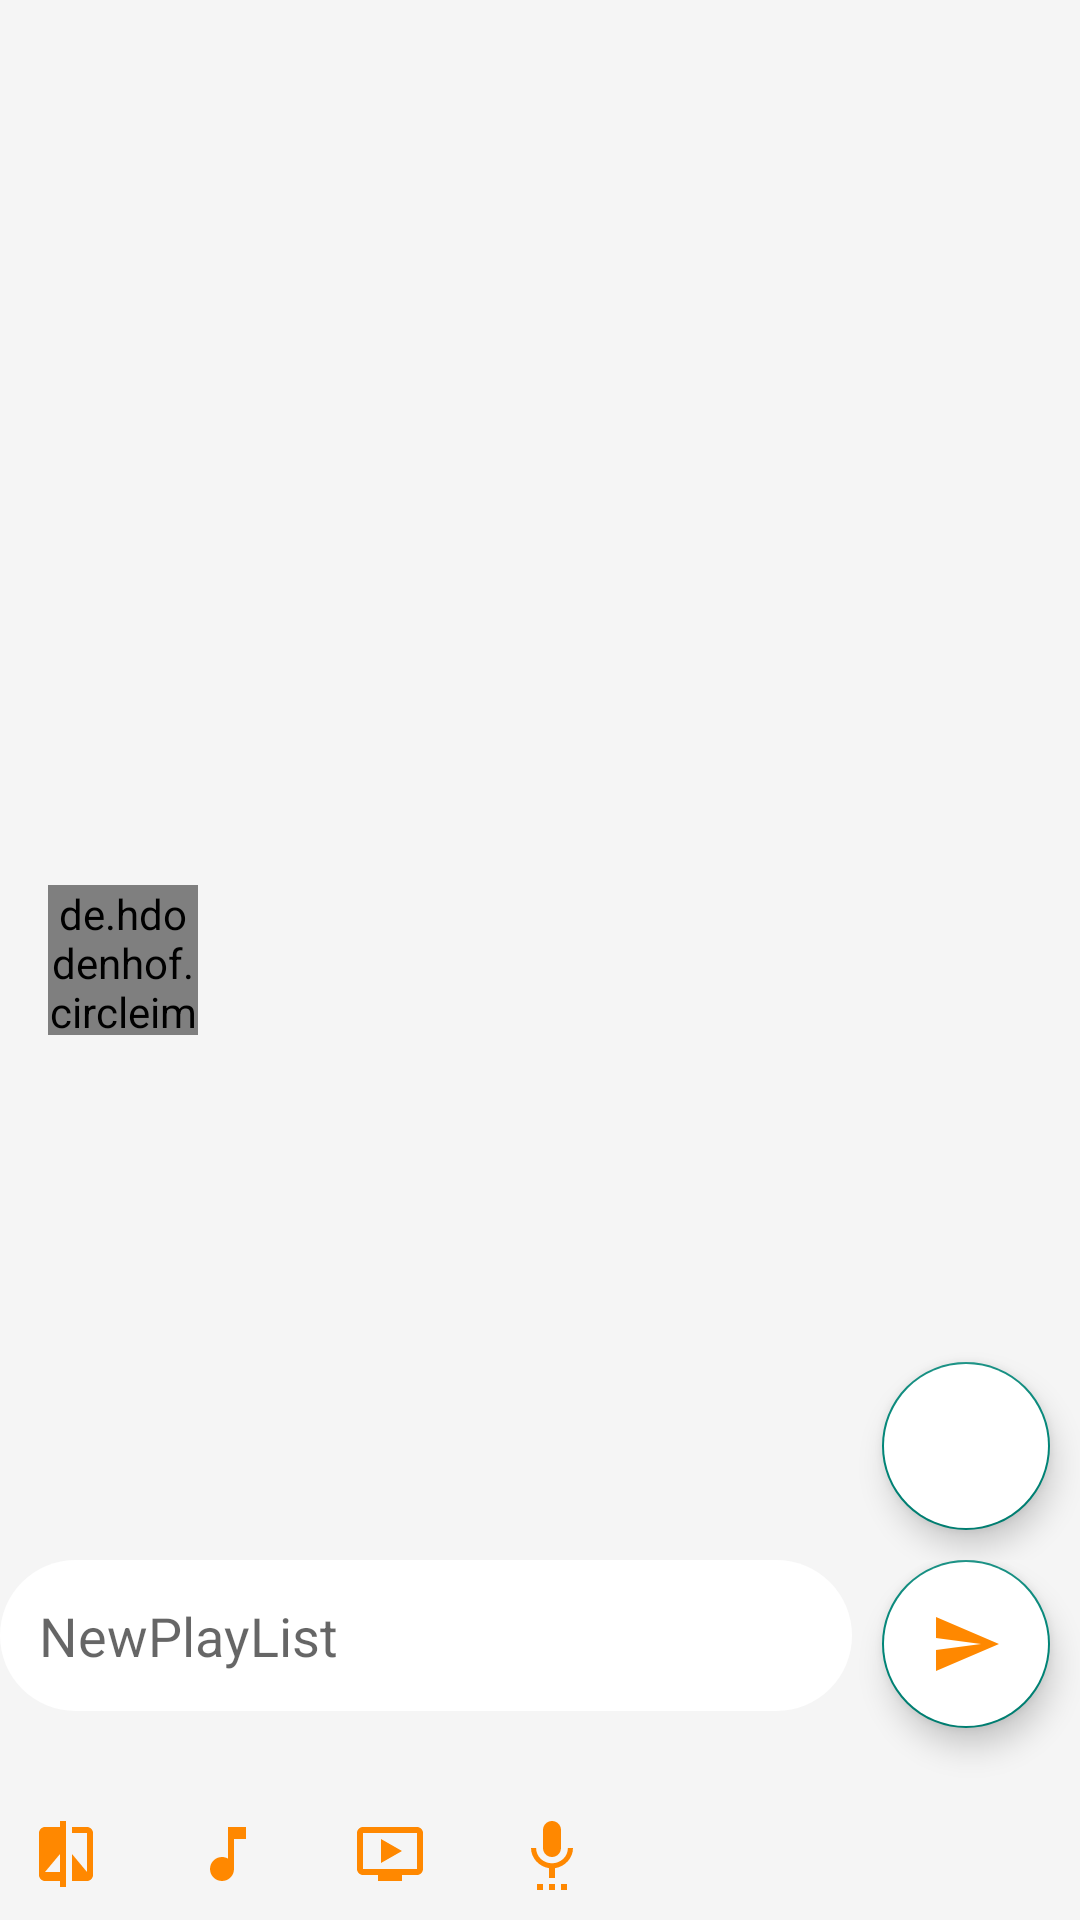

Point at icon controls on the screen. Image size 1080 x 1920, points as (x,y).
compare: (66,1854)
music note: (228,1854)
ondemand video: (390,1854)
send: (966,1644)
settings voice: (552,1855)
